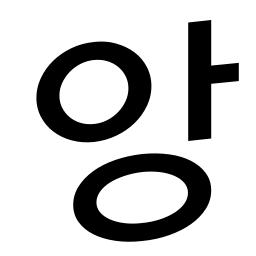Gaji: (174, 53, 228, 99)
